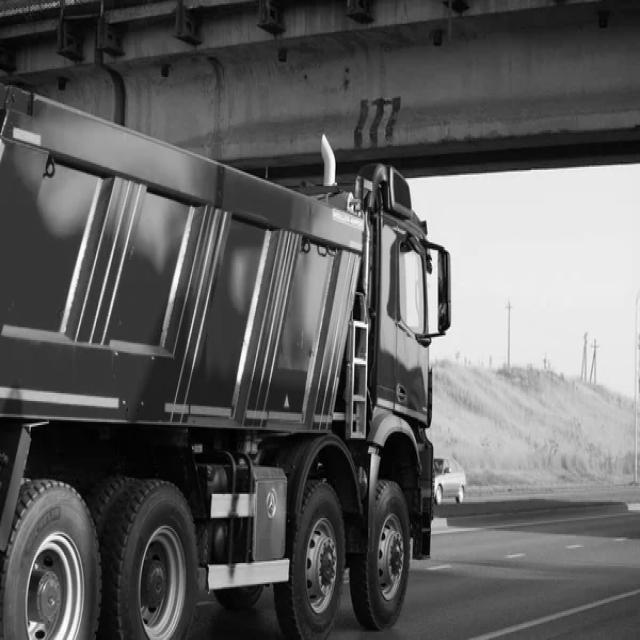Truck: (0, 83, 450, 640)
